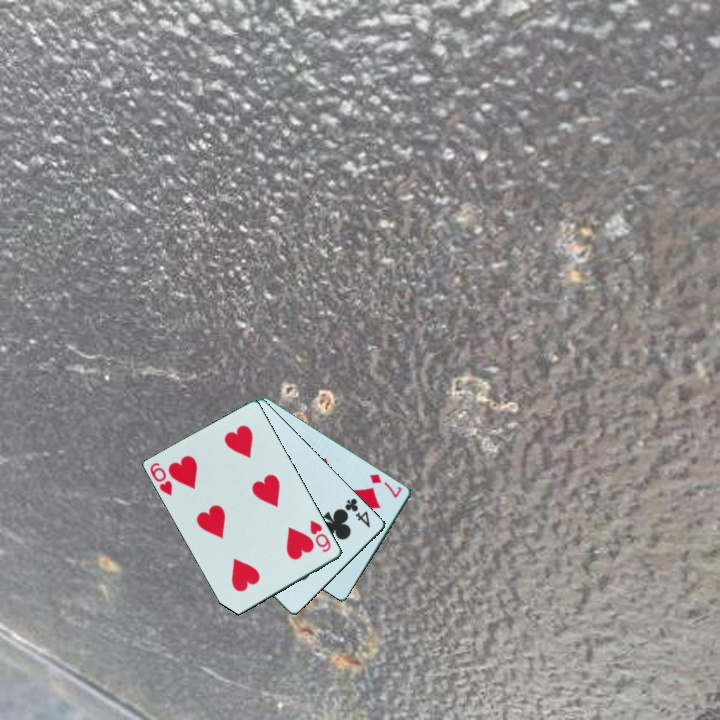4c: (342, 494, 374, 530)
6h: (147, 459, 176, 499), (307, 516, 334, 555)
7d: (366, 470, 405, 501)
